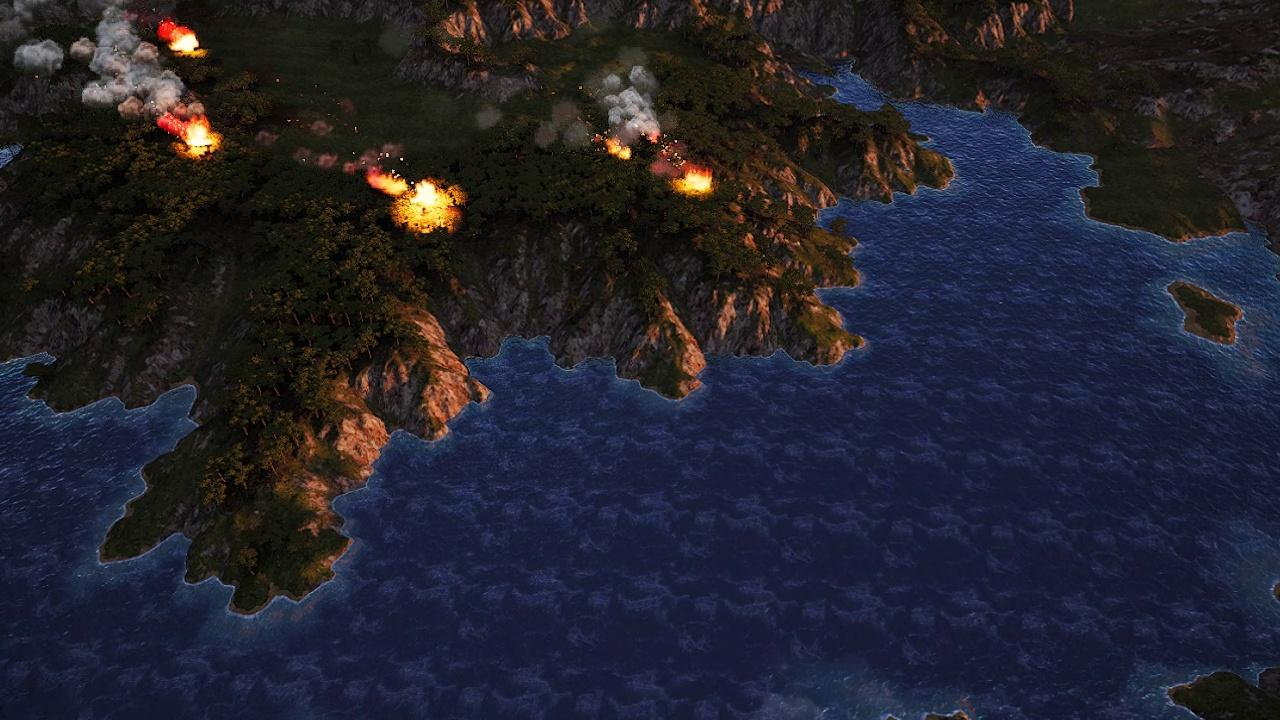fire: (368, 170, 459, 228), (175, 114, 222, 152), (162, 23, 207, 57), (682, 173, 714, 196)
smoke: (0, 0, 184, 117), (594, 49, 662, 141)
